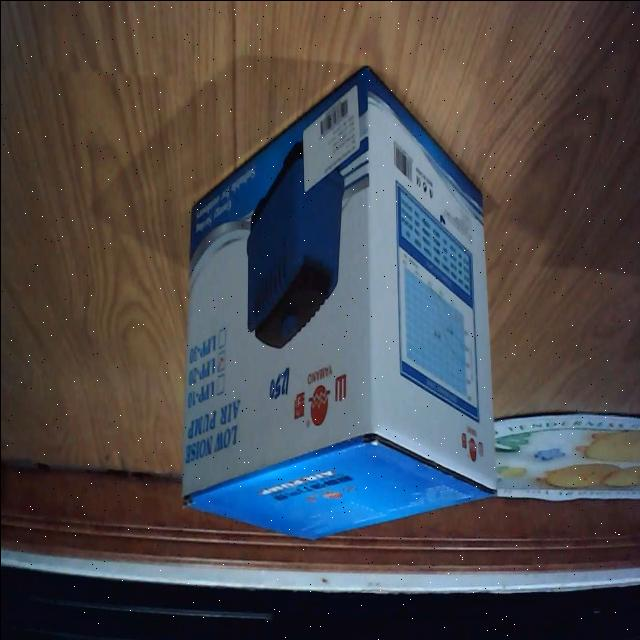YAMANO_LPP_20: (160, 53, 490, 535)
